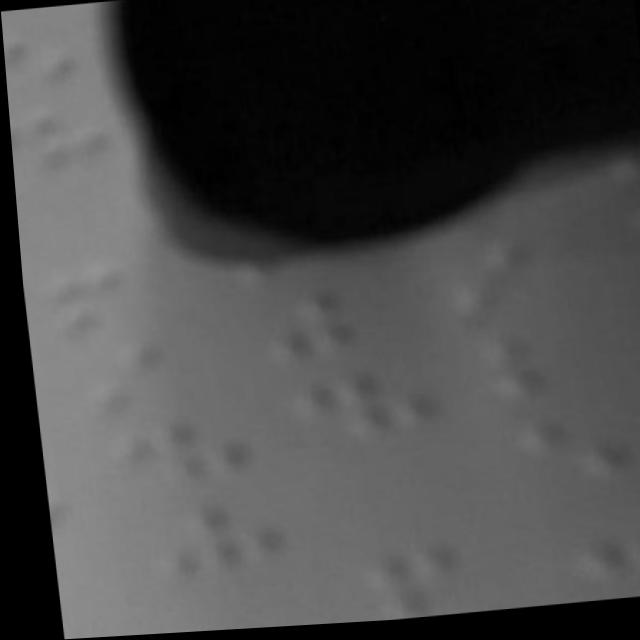braiile: (264, 352, 441, 456), (117, 483, 282, 588), (81, 404, 256, 501), (16, 247, 197, 338), (48, 326, 219, 419), (490, 395, 640, 500), (231, 273, 402, 364), (339, 533, 501, 625), (538, 489, 640, 588), (6, 93, 116, 179), (2, 22, 92, 97)
